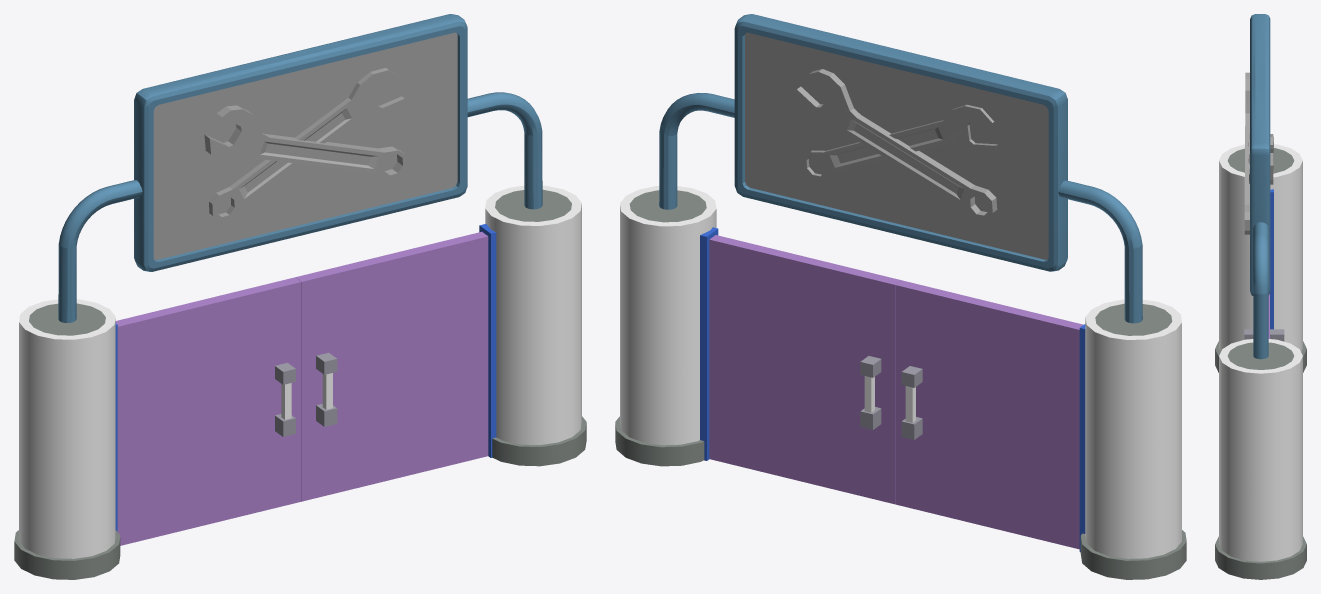
Rendered from Door_With_Poster.fbx.
3 views of the same model, side by side, from view 1: azimuth 30°, elevation 25°; view 2: azimuth 150°, elevation 25°; view 3: azimuth 270°, elevation 25° (orthographic). The views are drawn at different scales.
Parts seen in each view (by area): view 1: Toolbox2, Part_01_2, Part_01_1, polySurface11, polySurface3; view 2: Toolbox2, Part_01_2, Part_01_1, polySurface11, polySurface3; view 3: polySurface3, polySurface11, Toolbox2, Part_01_1.
Boxes of the visible parts, bbox=[...] form: Toolbox2: bbox=[58, 14, 542, 323]; Part_01_2: bbox=[295, 224, 496, 501]; Part_01_1: bbox=[115, 277, 301, 545]; polySurface11: bbox=[14, 299, 120, 579]; polySurface3: bbox=[485, 185, 586, 466]; Toolbox2: bbox=[659, 14, 1142, 323]; Part_01_2: bbox=[700, 227, 901, 504]; Part_01_1: bbox=[896, 280, 1085, 552]; polySurface11: bbox=[1080, 299, 1186, 579]; polySurface3: bbox=[615, 186, 716, 466]; polySurface3: bbox=[1215, 339, 1306, 579]; polySurface11: bbox=[1215, 144, 1306, 372]; Toolbox2: bbox=[1244, 14, 1273, 359]; Part_01_1: bbox=[1244, 189, 1284, 341].
Bounding box in the file's own units: 584 × 447 × 96.81.
4 materials, 2 textured.
